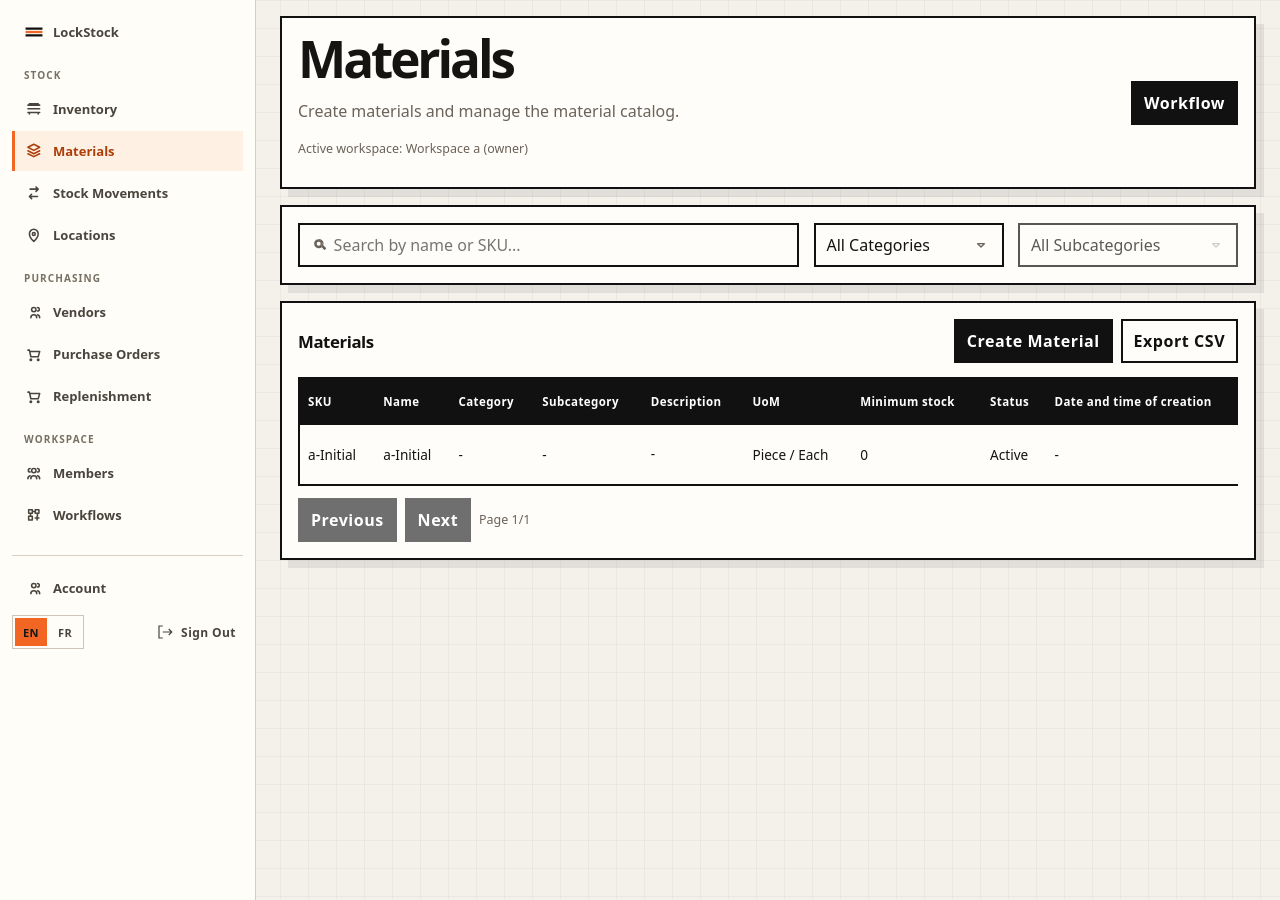
Test: keeps the latest materials search when an older response arrives last
Type "Old" into the field with placeholder "Search by name or SKU...".
click(549, 245); type("Old")  # box [298,223,799,267]
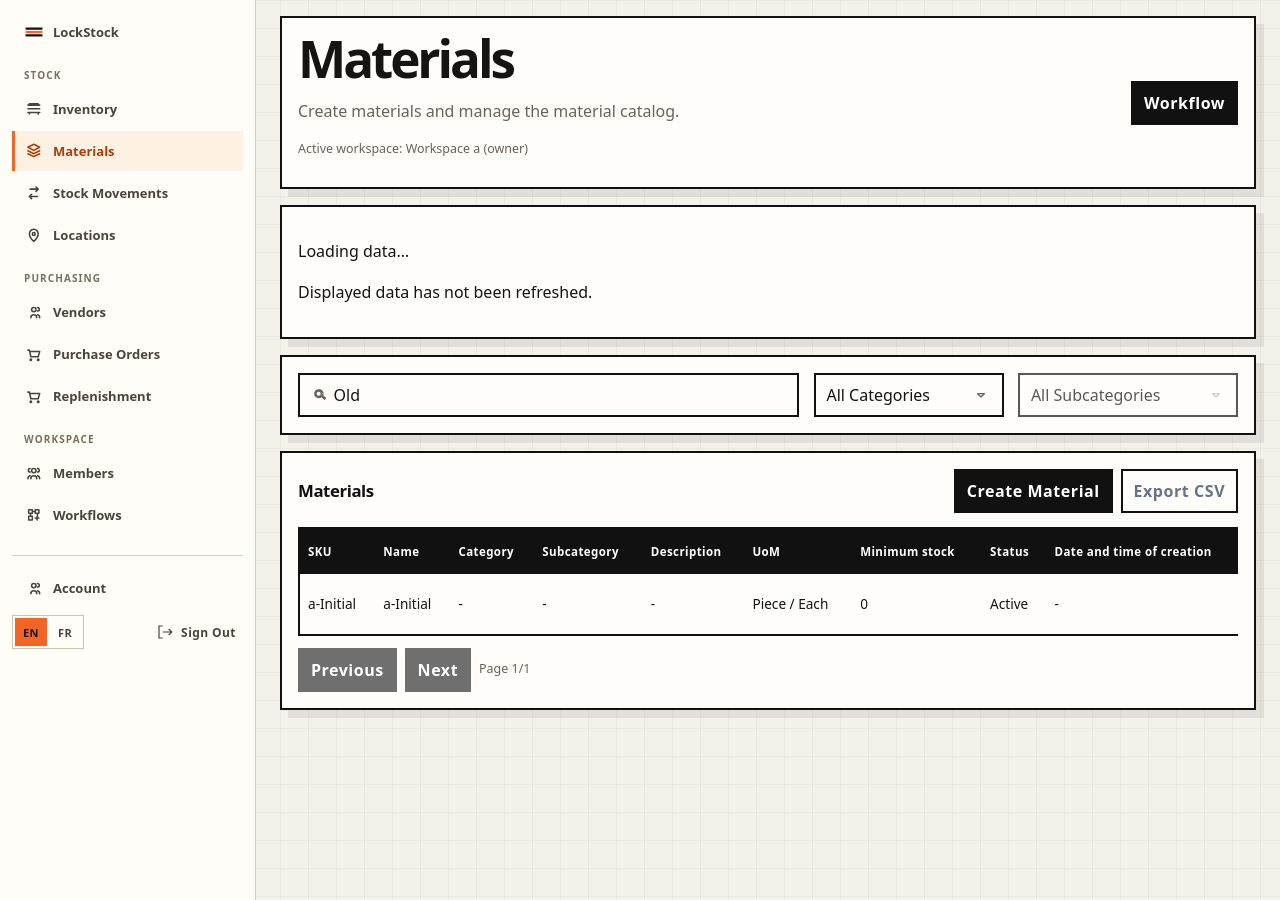
Replace the text in the field with placeholder "Search by name or SKU..." with "New" at (549, 395), box [298,373,799,417]
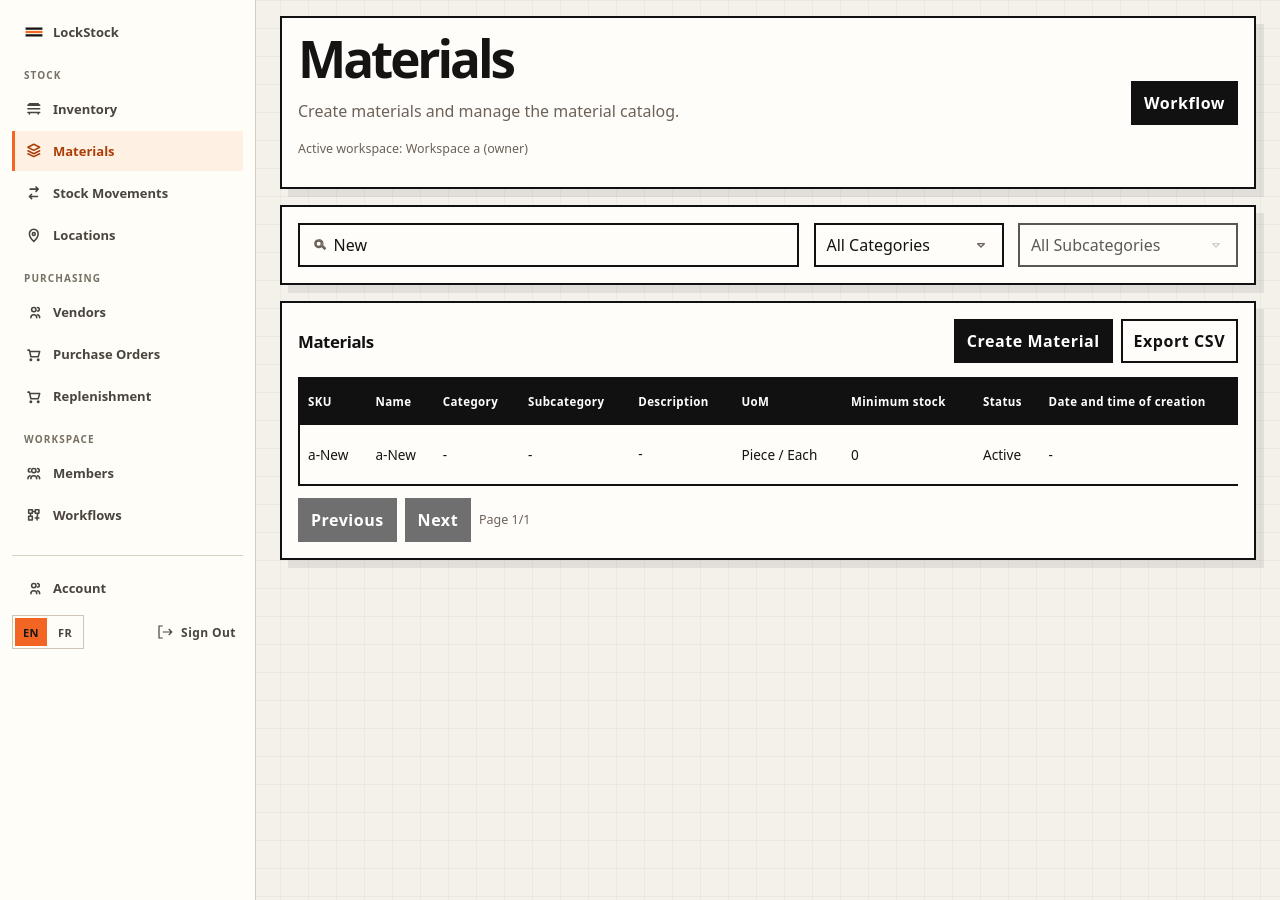
Expected: the 1st text "a-New" is shown, [299,424,367,485]
